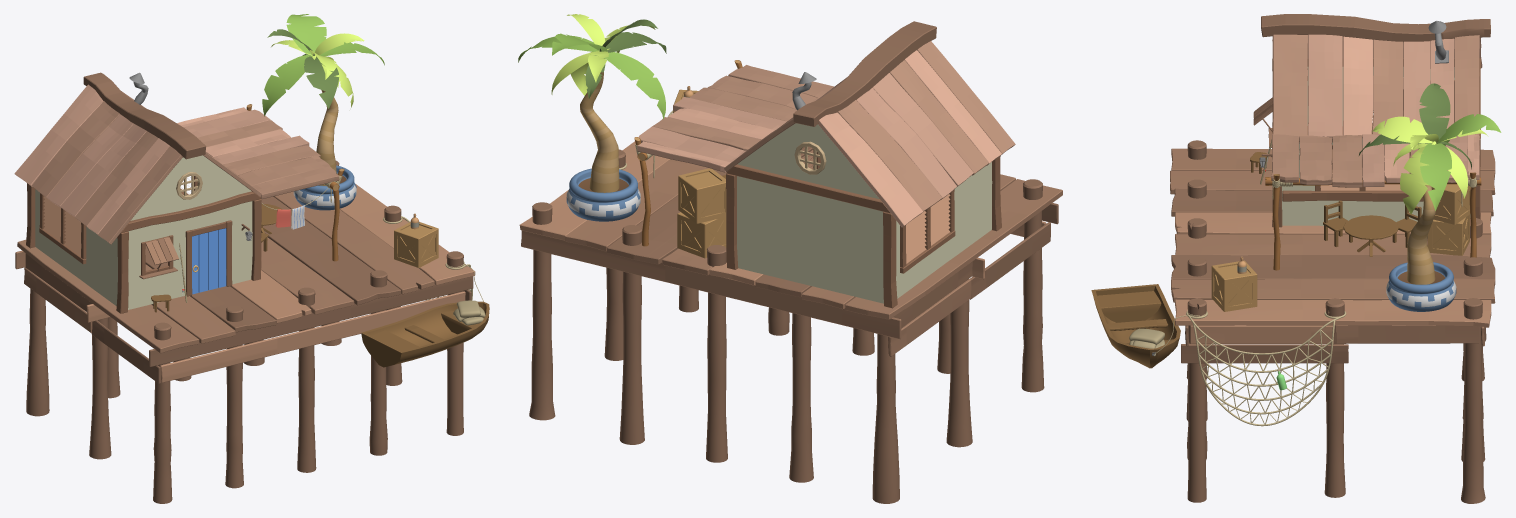
File: rumahlaut1.gltf
3 views of the same model, side by side, from view 1: azimuth 30°, elevation 25°; view 2: azimuth 150°, elevation 25°; view 3: azimuth 270°, elevation 25° (orthographic). The views are drawn at different scales.
Visible parts, largest first — view 1: Wood support3; view 2: Wood support3; view 3: Wood support3.
Part boxes in pixels (<box>): Wood support3: <box>14,14,489,503</box>; Wood support3: <box>518,14,1062,503</box>; Wood support3: <box>1091,14,1501,503</box>.
Size of the model in its own units: 14.58 by 13.53 by 13.37.
